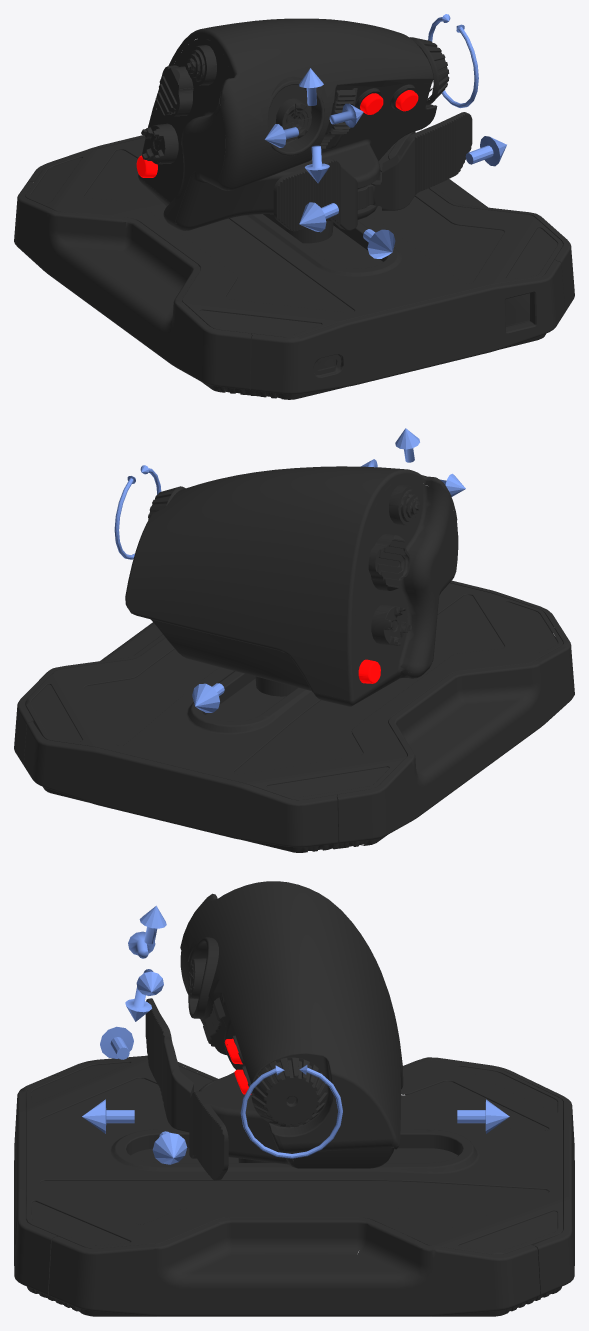
Rendered from solr_throttle.glb.
3 views of the same model, one above another, from view 1: azimuth 30°, elevation 25°; view 2: azimuth 150°, elevation 25°; view 3: azimuth 270°, elevation 25° (orthographic). The views are drawn at different scales.
Visible parts, largest first — view 1: TM_TH16K_HAND_BOTTOM_COVER_Container, _02_TM_JO_FALCON_TWCS_TOP_COVERContainer, _02_TM_JO_FALCON_TWCS_SID_L_PLATContainer, pov_08Container, TM_TH16K_HAND_RIGHT_COVERContainer, btn_07Container, TOP_MANETEContainer, _02_TM_JO_FALCON_TWCS_SID_R_PLATContainer, ROCKER, TM_TH16K_HAND_FRONT_COVER_PContainer, pov_01Container, MINISTICK_X (+7 smaller); view 2: TM_TH16K_HAND_BOTTOM_COVER_Container, pov_08Container, _02_TM_JO_FALCON_TWCS_TOP_COVERContainer, _02_TM_JO_FALCON_TWCS_REAR_PLATContainer, TOP_MANETEContainer, TM_TH16K_HAND_FRONT_COVER_PContainer, _02_TM_JO_FALCON_TWCS_SID_R_PLATContainer, _02_TM_JO_FALCON_TWCS_FRONT_PLATContainer, THROTTLE, ANTENNA, HAT1_L; view 3: TM_TH16K_HAND_BOTTOM_COVER_Container, _02_TM_JO_FALCON_TWCS_SID_R_PLATContainer, pov_08Container, btn_07Container, TM_TH16K_HAND_RIGHT_COVERContainer, _02_TM_JO_FALCON_TWCS_SID_L_PLATContainer, pov_01Container, _02_TM_JO_FALCON_TWCS_REAR_PLATContainer, TM_TH16K_HAND_FRONT_COVER_PContainer, ROCKER, THROTTLE, ANTENNA (+5 smaller).
Part boxes in pixels (left/top/right/bottom): TM_TH16K_HAND_BOTTOM_COVER_Container: left=25, top=137, right=562, bottom=337; _02_TM_JO_FALCON_TWCS_TOP_COVERContainer: left=14, top=181, right=251, bottom=390; _02_TM_JO_FALCON_TWCS_SID_L_PLATContainer: left=250, top=260, right=565, bottom=394; pov_08Container: left=138, top=18, right=433, bottom=178; TM_TH16K_HAND_RIGHT_COVERContainer: left=175, top=76, right=437, bottom=226; btn_07Container: left=273, top=112, right=472, bottom=231; TOP_MANETEContainer: left=141, top=38, right=232, bottom=223; _02_TM_JO_FALCON_TWCS_SID_R_PLATContainer: left=388, top=131, right=574, bottom=312; ROCKER: left=299, top=136, right=506, bottom=232; TM_TH16K_HAND_FRONT_COVER_PContainer: left=138, top=176, right=377, bottom=243; pov_01Container: left=409, top=37, right=449, bottom=105; MINISTICK_X: left=265, top=103, right=363, bottom=147; TM_TH16K_HAND_BOTTOM_COVER_Container: left=25, top=583, right=562, bottom=800; pov_08Container: left=125, top=466, right=457, bottom=701; _02_TM_JO_FALCON_TWCS_TOP_COVERContainer: left=337, top=627, right=574, bottom=843; _02_TM_JO_FALCON_TWCS_REAR_PLATContainer: left=24, top=721, right=338, bottom=847; TOP_MANETEContainer: left=354, top=478, right=457, bottom=698; TM_TH16K_HAND_FRONT_COVER_PContainer: left=151, top=619, right=432, bottom=706; _02_TM_JO_FALCON_TWCS_SID_R_PLATContainer: left=14, top=622, right=165, bottom=765; _02_TM_JO_FALCON_TWCS_FRONT_PLATContainer: left=43, top=787, right=386, bottom=852; THROTTLE: left=192, top=683, right=224, bottom=712; ANTENNA: left=114, top=465, right=161, bottom=559; HAT1_L: left=368, top=544, right=390, bottom=577; TM_TH16K_HAND_BOTTOM_COVER_Container: left=26, top=1058, right=563, bottom=1254; _02_TM_JO_FALCON_TWCS_SID_R_PLATContainer: left=48, top=1217, right=540, bottom=1316; pov_08Container: left=180, top=881, right=403, bottom=1149; btn_07Container: left=145, top=998, right=228, bottom=1180; TM_TH16K_HAND_RIGHT_COVERContainer: left=180, top=937, right=293, bottom=1161; _02_TM_JO_FALCON_TWCS_SID_L_PLATContainer: left=14, top=1075, right=57, bottom=1295; pov_01Container: left=251, top=1057, right=327, bottom=1127; _02_TM_JO_FALCON_TWCS_REAR_PLATContainer: left=532, top=1083, right=574, bottom=1295; TM_TH16K_HAND_FRONT_COVER_PContainer: left=228, top=1075, right=403, bottom=1168; ROCKER: left=100, top=1026, right=187, bottom=1164; THROTTLE: left=82, top=1099, right=509, bottom=1133; ANTENNA: left=240, top=1065, right=342, bottom=1158.
Size of the model in its own units: 16.98 by 12.14 by 20.48.
